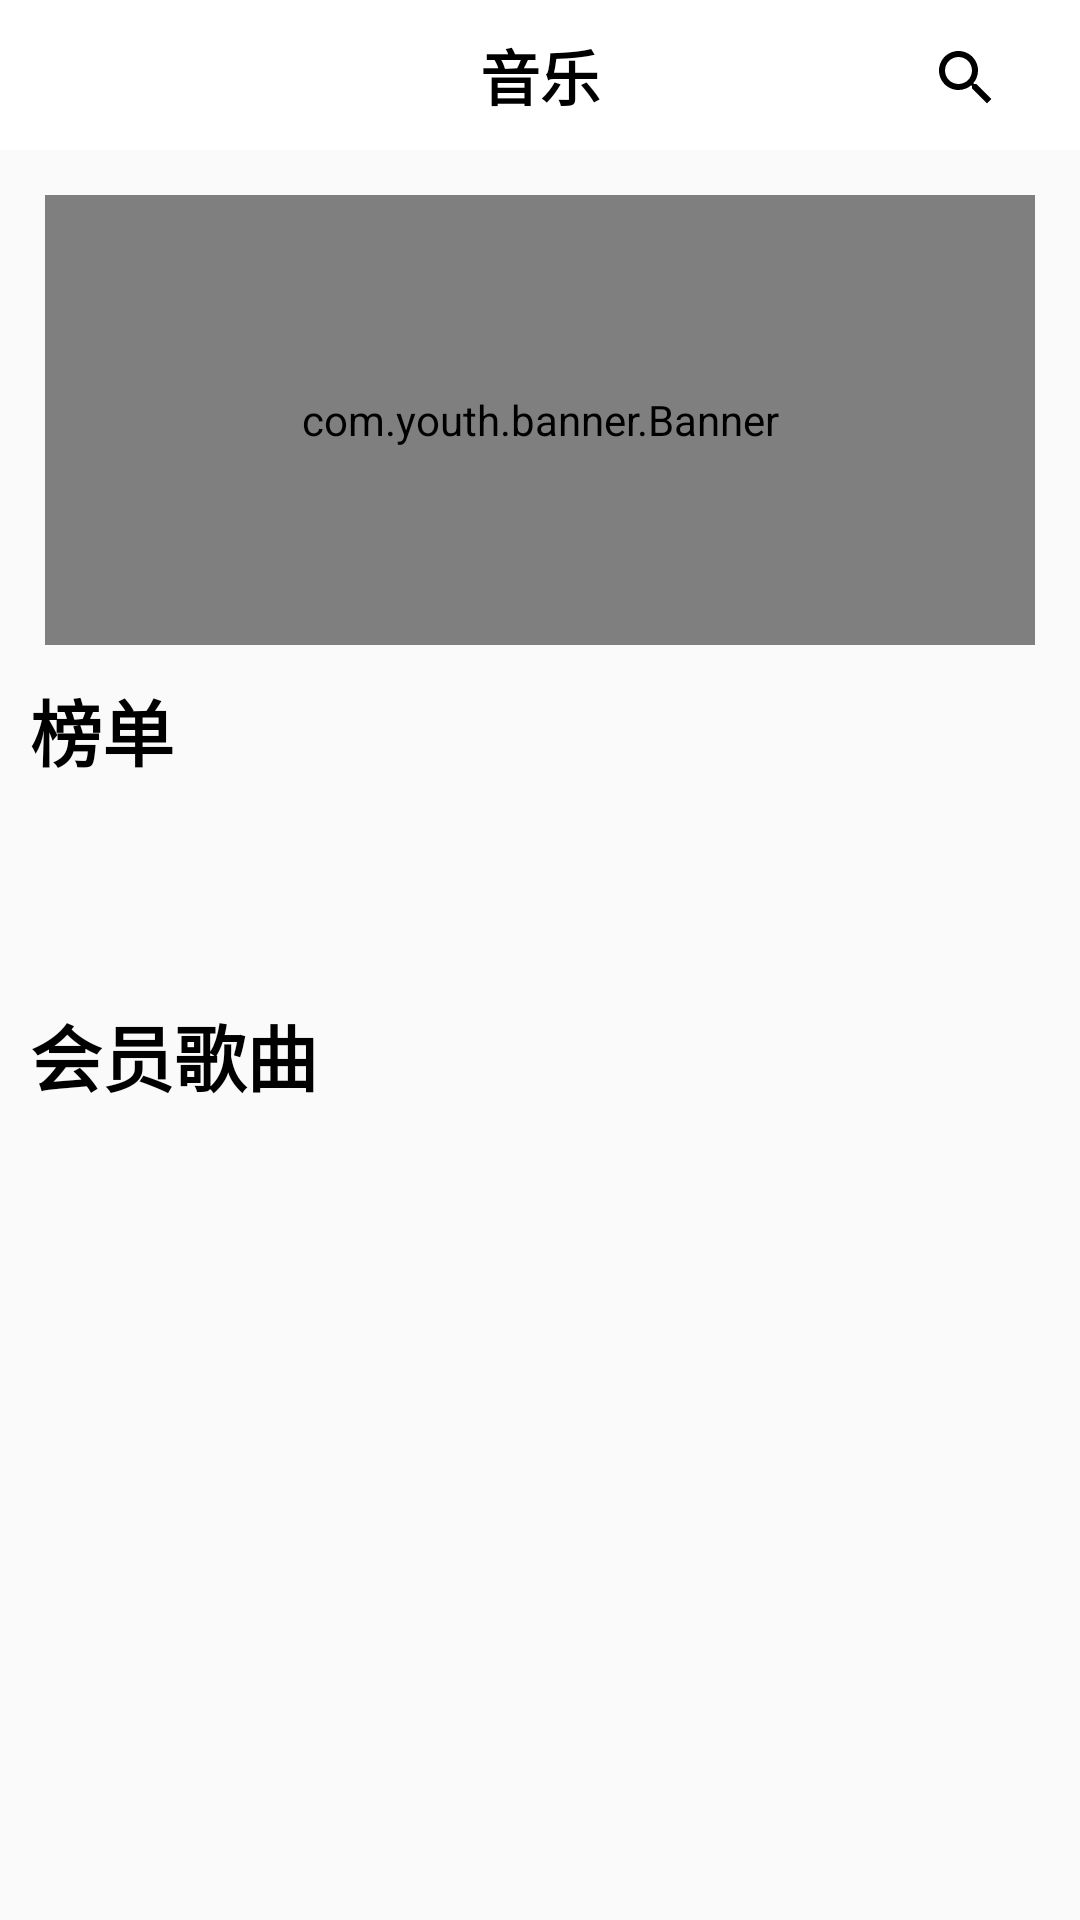

Point at icon controls on the screen. Image size 1080×1920, points as point (x, y).
search: point (965, 77)
